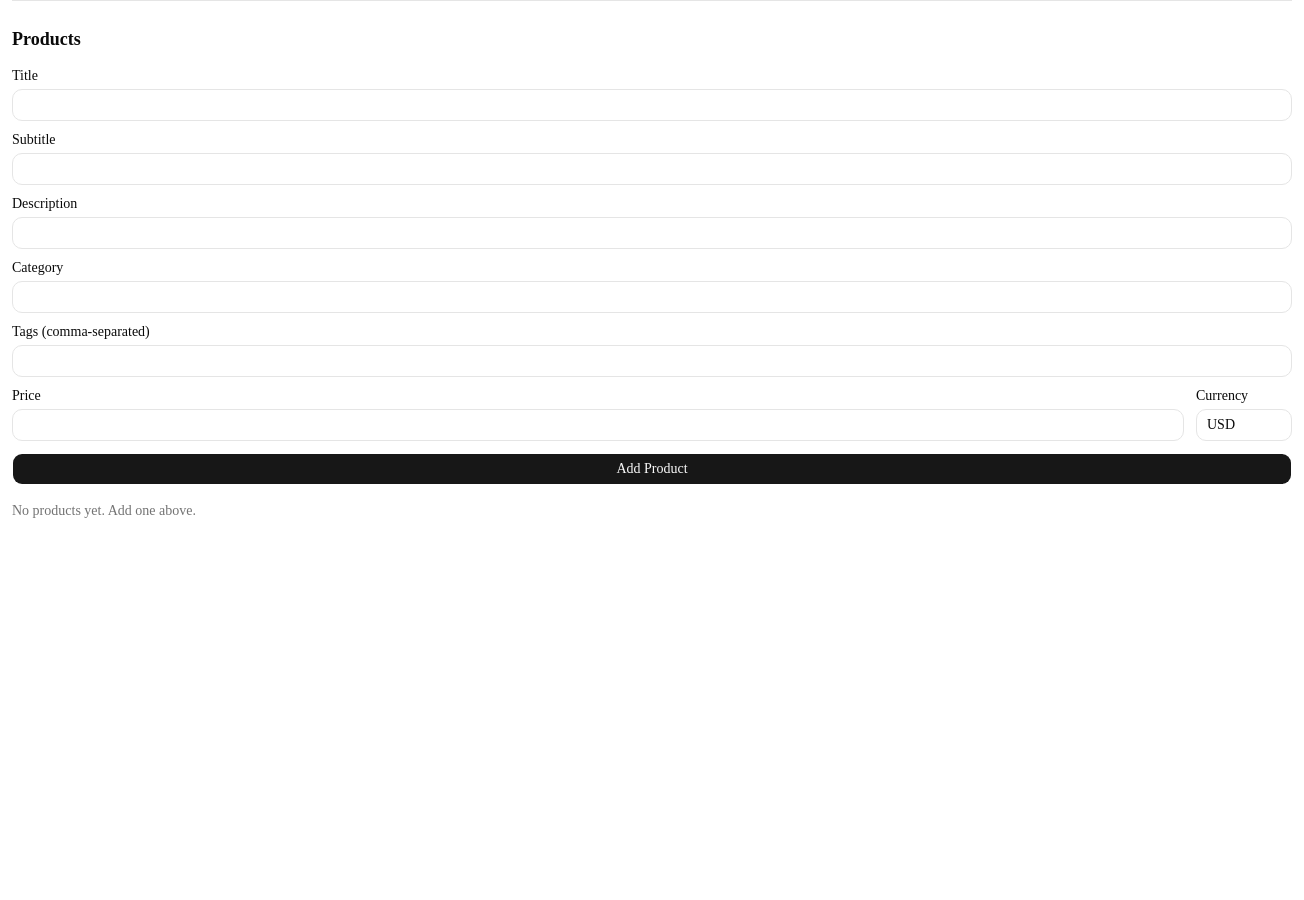
Test case: ProductIntelligenceSection › creates a product and displays it in the list
Check: the text "No products yet. Add one above." is shown, box [12,503,196,518]
Type "Bamboo Cutting Board" into the field labelled "Title" at (652, 105), box [12,89,1292,121]
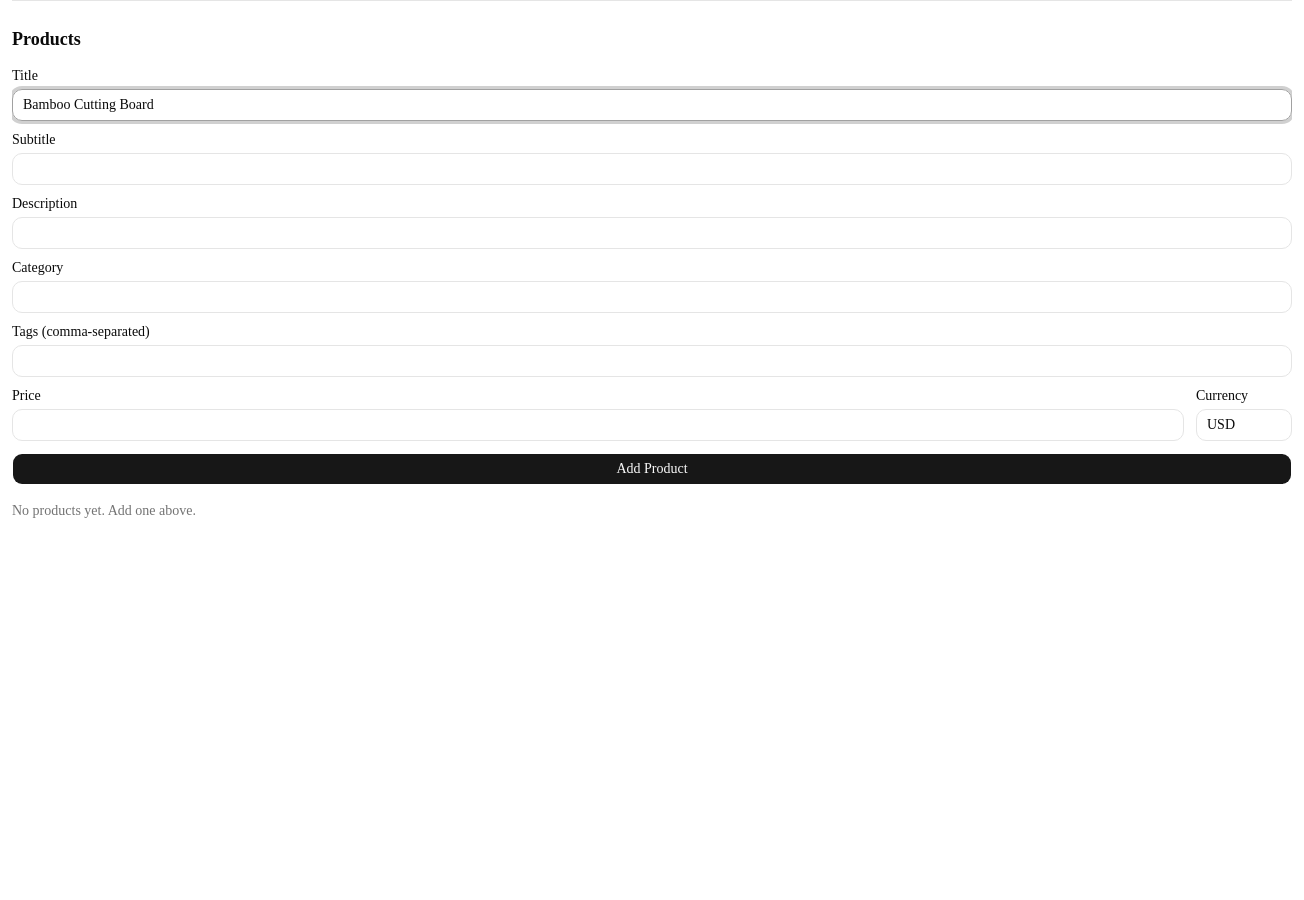
Click the button "Add Product" at (652, 469), box [12,453,1292,485]
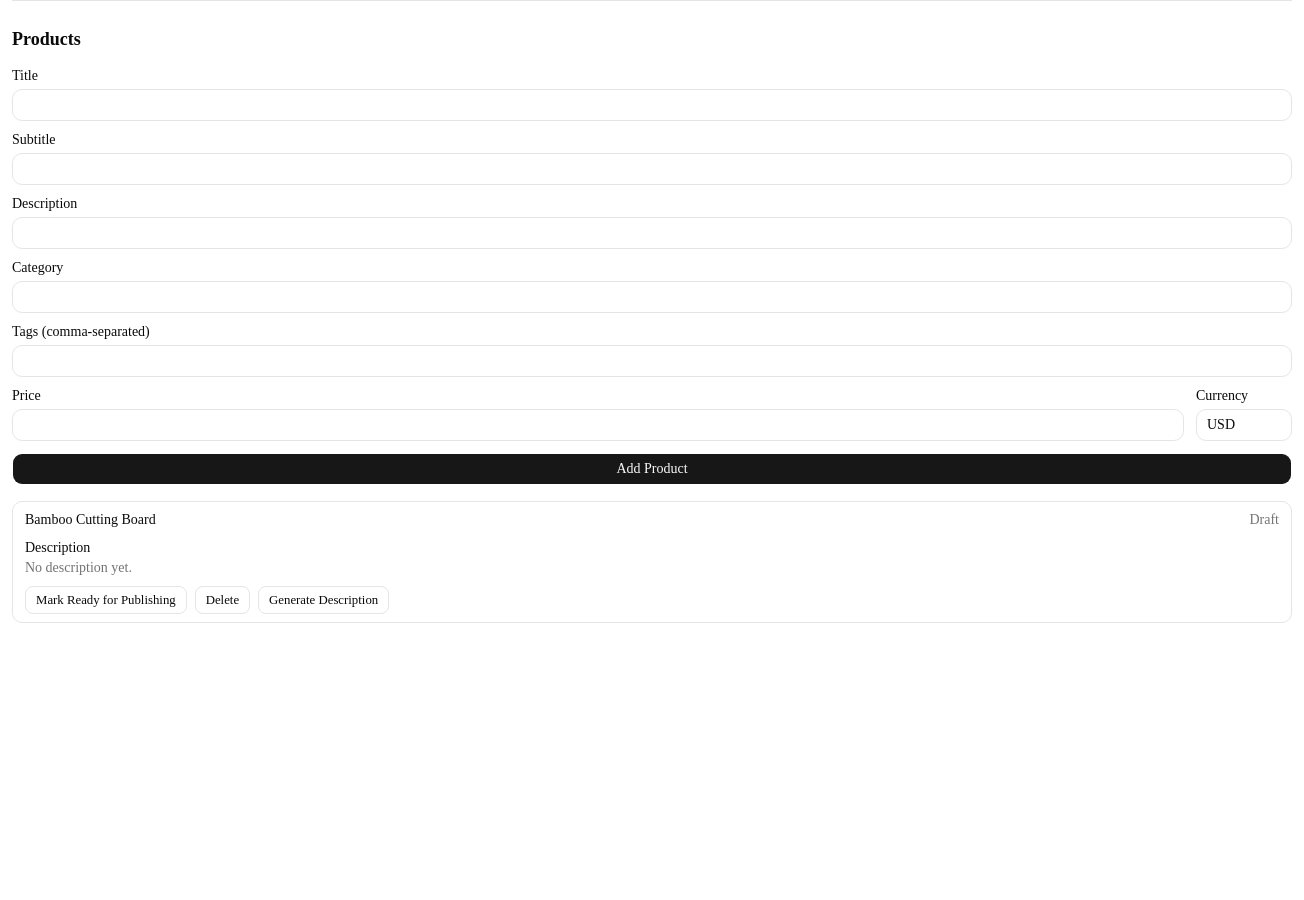
Check: the text "Bamboo Cutting Board" is shown, box [25,510,156,530]
